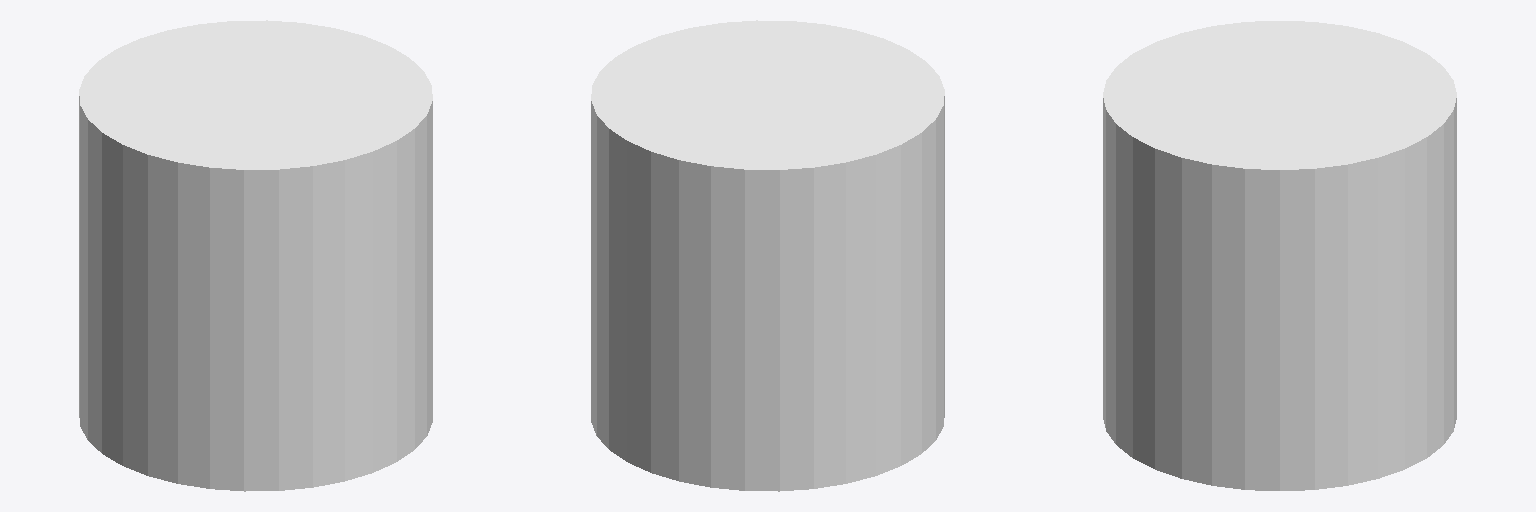
robot.urdf — target:
<?xml version="1.0" ?>
<!-- =================================================================================== -->
<!-- |    This document was autogenerated by xacro from cylinder_2d.xacro              | -->
<!-- |    EDITING THIS FILE BY HAND IS NOT RECOMMENDED                                 | -->
<!-- =================================================================================== -->
<robot name="target" xmlns:xacro="http://www.ros.org/wiki/xacro">
  <link name="target">
    <contact>
      <lateral_friction value="1"/>
    </contact>
    <inertial>
      <origin rpy="0 0 0" xyz="0 0 0"/>
      <!--<mass value="0.05"/>   -->
      <mass value="0.01"/>
      <!--<inertia ixx="1" ixy="0" ixz="0"-->
      <!--iyy="1" iyz="0"-->
      <!--izz="${1/2*radius*radius}"/>-->
      <inertia ixx="0" ixy="0" ixz="0" iyy="0" iyz="0" izz="0"/>
    </inertial>
    <visual>
      <origin rpy="0 0 0" xyz="0 0 0"/>
      <geometry>
        <cylinder length="0.1" radius="0.05"/>
      </geometry>
      <material name="white">
        <color rgba="1 1 1 1"/>
      </material>
    </visual>
    <collision>
      <origin rpy="0 0 0" xyz="0 0 0"/>
      <geometry>
        <cylinder length="0.1" radius="0.05"/>
      </geometry>
    </collision>
  </link>
</robot>

--- Render facts (derived) ---
Views: 3 orthographic renders of the robot side by side, from view 1: azimuth 30°, elevation 25°; view 2: azimuth 150°, elevation 25°; view 3: azimuth 270°, elevation 25°.
Robot: target — 1 links, 0 joints (none); root link target; default pose: all joints at 0.
Links seen in each view (by area): view 1: target; view 2: target; view 3: target.
Link boxes in pixels (bbox=[...]): target: bbox=[79, 20, 432, 491]; target: bbox=[591, 20, 944, 491]; target: bbox=[1103, 21, 1456, 490].
Size in the robot's own frame: 0.1 by 0.1 by 0.1 metres.
Geometry: primitives only (box / cylinder / sphere), no mesh files.